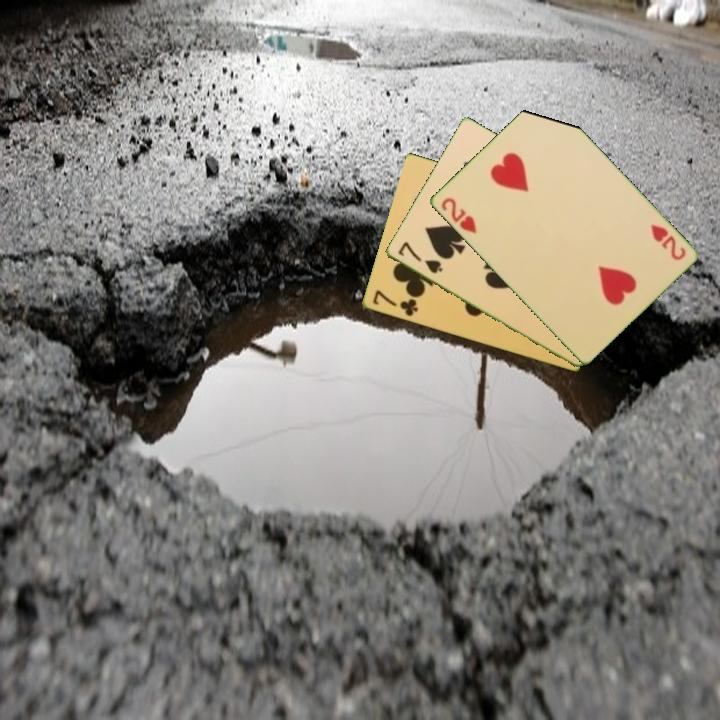2h: (437, 194, 479, 237), (647, 221, 688, 263)
7c: (369, 287, 421, 319)
7s: (394, 238, 445, 277)
